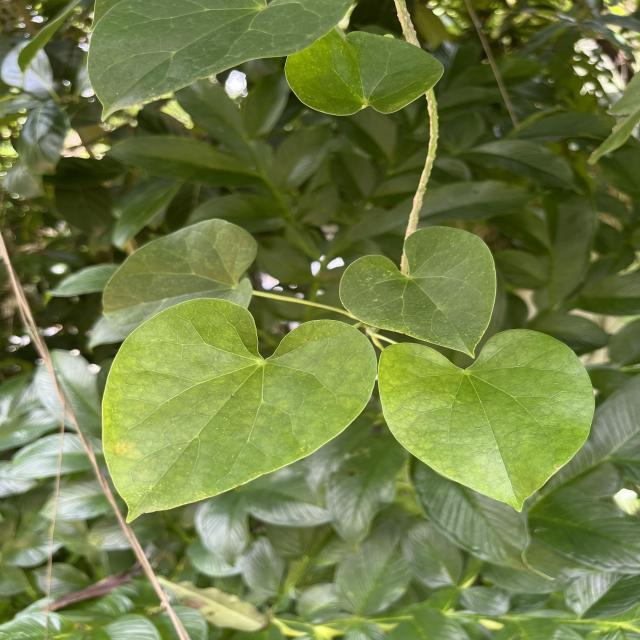Tinospora cordifolia: (99, 294, 381, 526), (376, 326, 600, 515), (336, 222, 499, 362)
